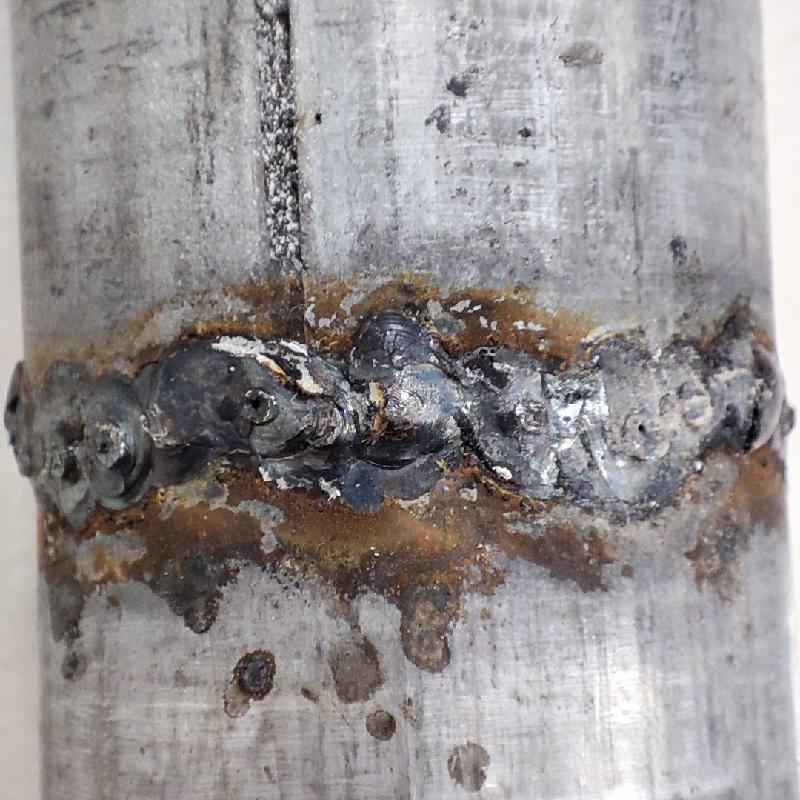Not_fully_soldered: (448, 335, 783, 499)
Weld: (336, 315, 449, 496)
